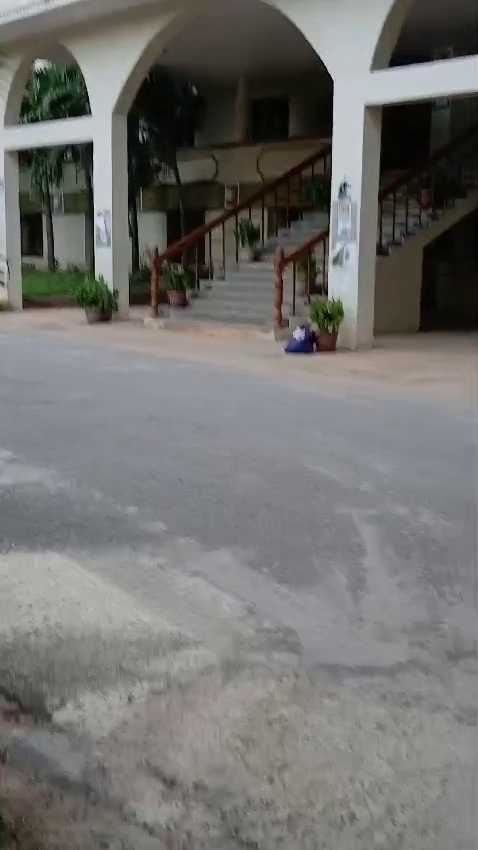bag: (277, 311, 317, 359)
